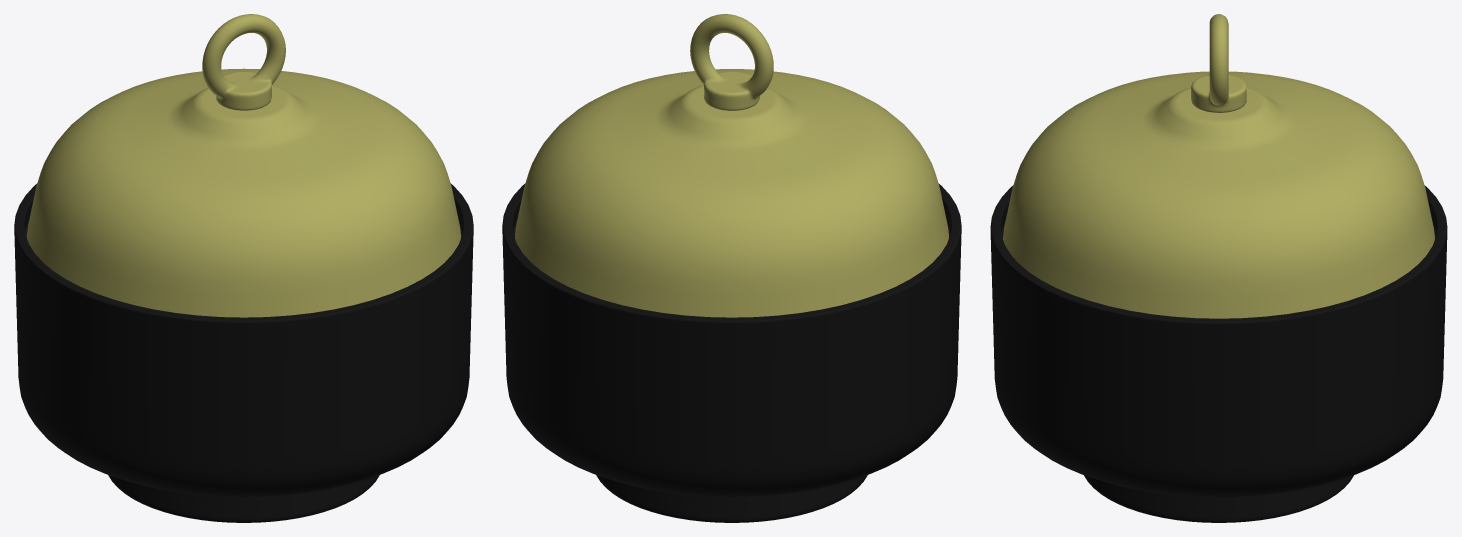
The model's file is Incipit_Belle_Small_mat(2).fbx.
3 views of the same model, side by side, from view 1: azimuth 30°, elevation 25°; view 2: azimuth 150°, elevation 25°; view 3: azimuth 270°, elevation 25° (orthographic).
Parts seen in each view (by area): view 1: Incipit_Belle_Small_mat2; view 2: Incipit_Belle_Small_mat2; view 3: Incipit_Belle_Small_mat2.
Boxes of the visible parts, x1,y1,x2,y2 form: Incipit_Belle_Small_mat2: (14, 14, 473, 522); Incipit_Belle_Small_mat2: (502, 14, 961, 522); Incipit_Belle_Small_mat2: (990, 14, 1447, 522).
Size of the model in its own units: 13 by 13 by 14.04.
